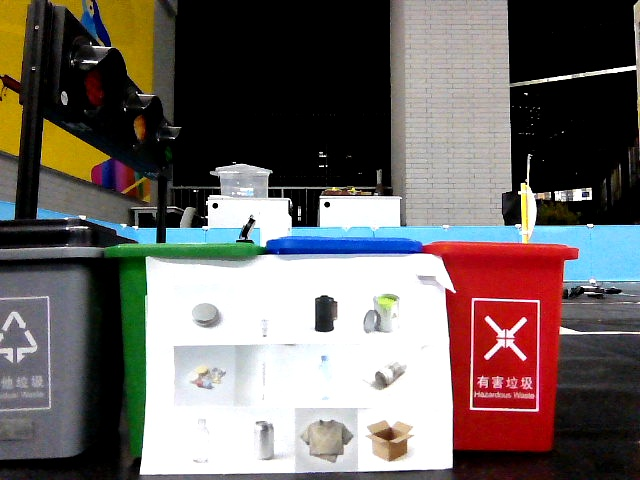hazardous_trash: (234, 346, 296, 406), (357, 286, 413, 340), (297, 287, 351, 341), (179, 348, 235, 400), (239, 292, 291, 345), (182, 289, 230, 342)
recyclable_trash: (295, 409, 358, 472), (172, 408, 230, 473), (359, 409, 421, 469), (295, 347, 351, 408), (239, 410, 295, 470), (359, 347, 417, 404)
